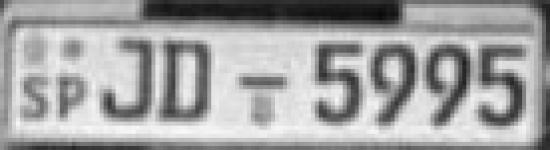-: (233, 69, 294, 92)
5: (473, 35, 533, 136), (310, 33, 367, 127)
9: (368, 36, 422, 134), (424, 37, 474, 133)
D: (156, 33, 223, 128)
J: (100, 32, 156, 127)
P: (55, 71, 92, 125)
S: (17, 72, 53, 124)
